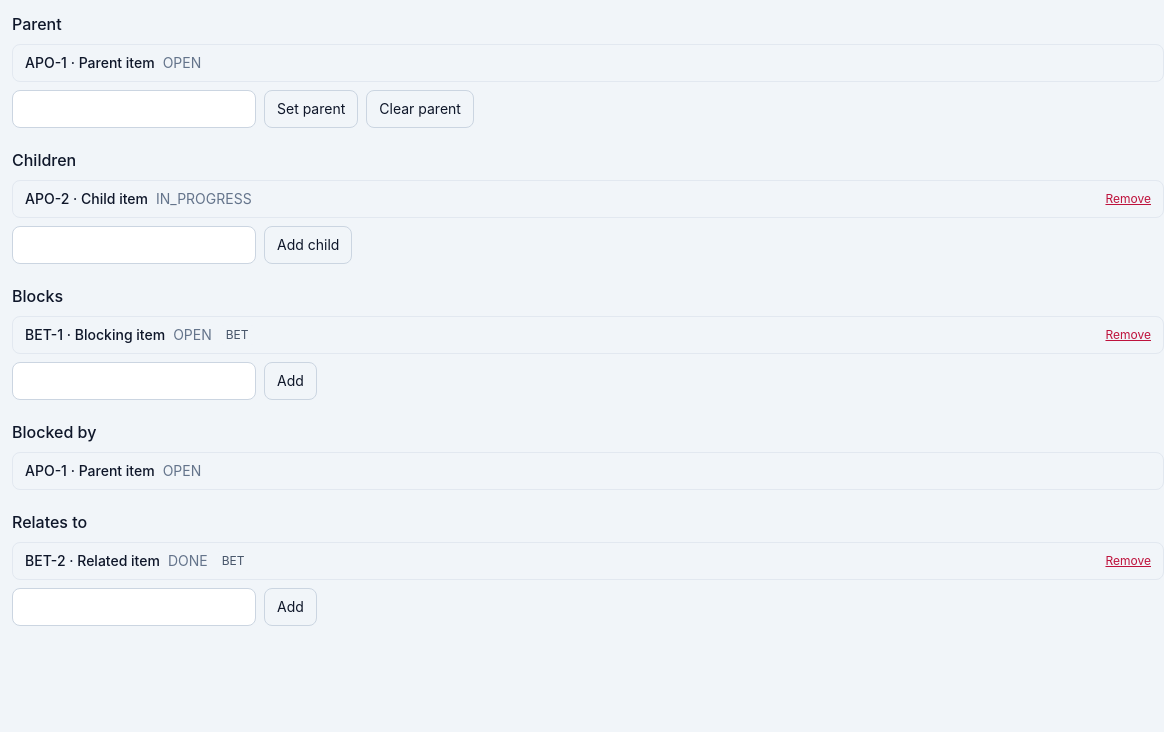
Test: LinksTab › scopes and excludes existing links from Parent item
Type "item" into the dropdown named "Parent item" at (134, 109), box [12, 90, 256, 128]
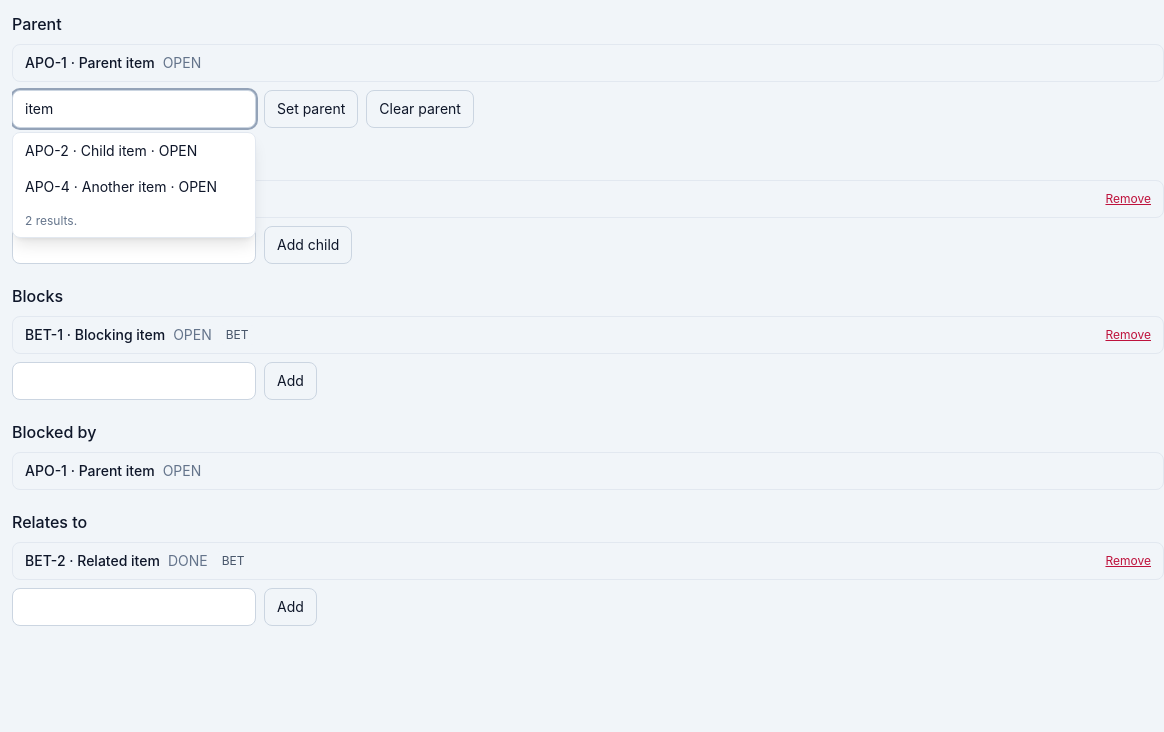
Check: the option "APO-4 · Another item · OPEN" is shown, box [25, 178, 217, 195]
